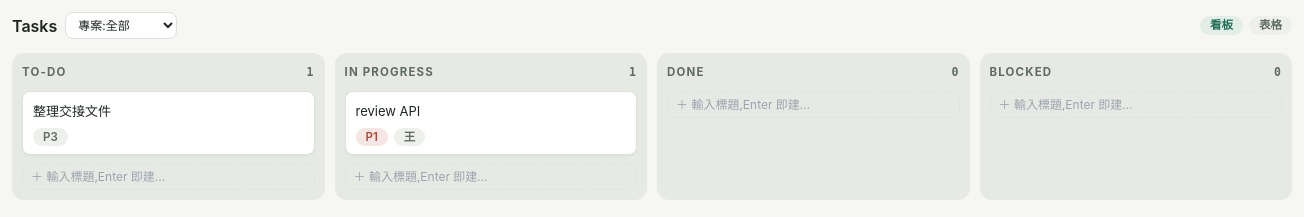
Test case: Tasks › switches to the table view and lists the same tasks
Expected: the button "review API P1 王" is shown, [344,90,637,155]
Click the button "表格".
click(1270, 26)  # box [1249,16,1292,35]
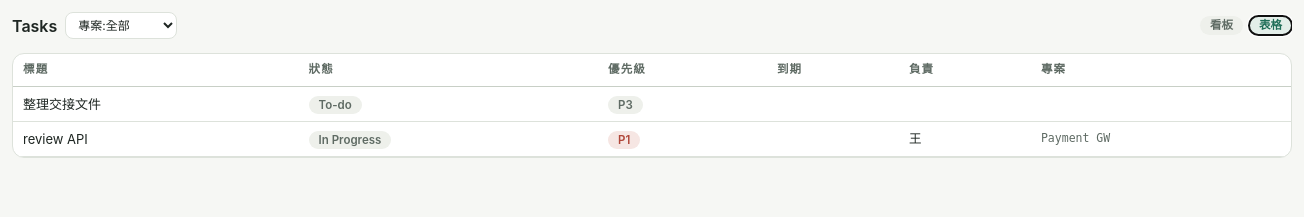
Expected: the text "review API" is shown, [13,121,299,156]
Expected: the text "Payment GW" is shown, [1031,121,1291,156]
